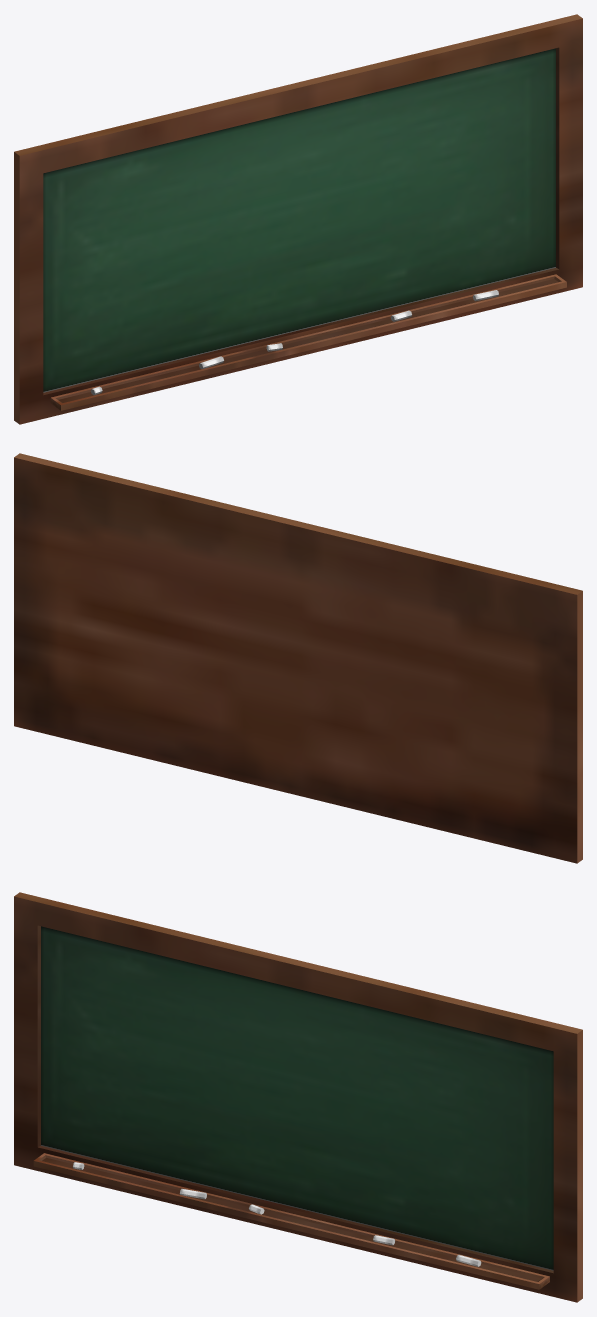
File: Quadro_Negro.fbx
3 views of the same model, one above another, from view 1: azimuth 30°, elevation 25°; view 2: azimuth 150°, elevation 25°; view 3: azimuth 330°, elevation 25° (orthographic).
Parts seen in each view (by area): view 1: Quadro_Negro; view 2: Quadro_Negro; view 3: Quadro_Negro.
Boxes of the visible parts, x1,y1,x2,y2 form: Quadro_Negro: (14,14,582,424); Quadro_Negro: (14,453,582,863); Quadro_Negro: (14,892,582,1302).
Bounding box in the file's own units: 160 × 72.96 × 8.18.
